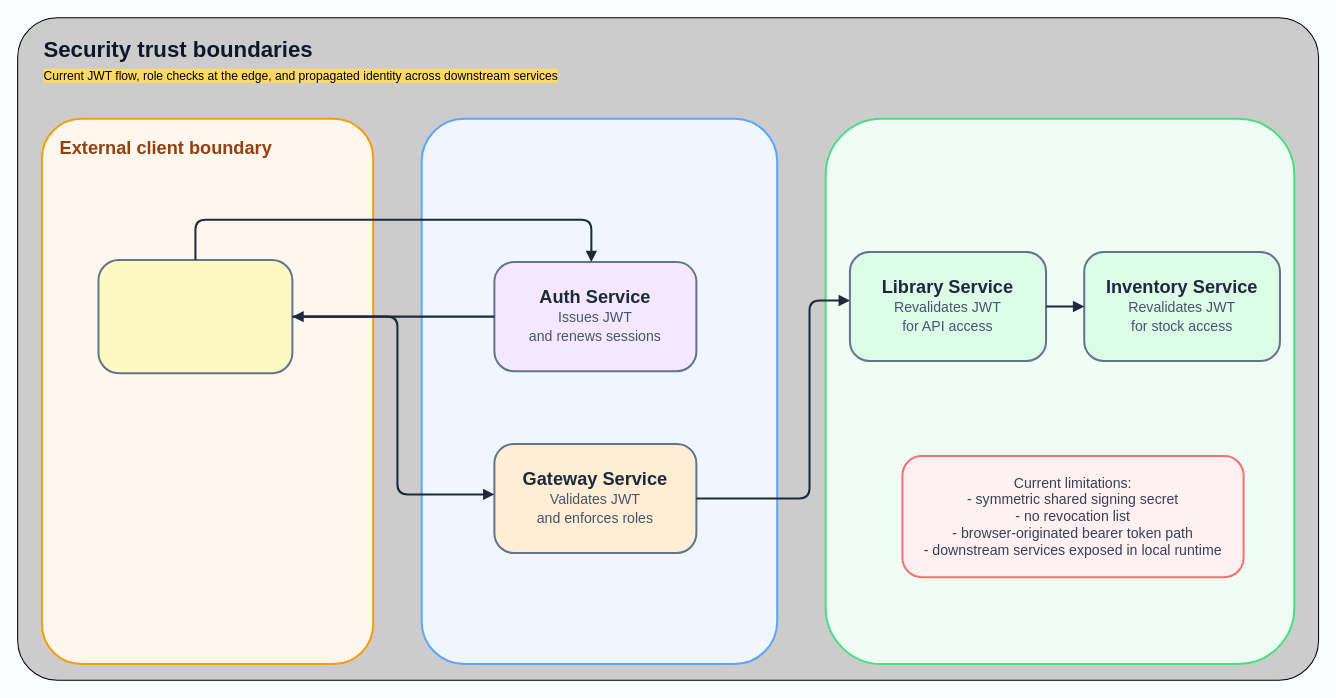
The diagram is 1336 pixels wide and 698 high, and some of its shapes have lost their labels. The shapes that lost their labels are listed below. From the top down, each one's box as (x1, y1, x2, y2) in pixels, then its label:
(97, 259, 293, 374): Browser / UI Stores and sends bearer token
(420, 117, 778, 665): Gateway trust boundary
(824, 117, 1295, 665): Internal service boundary
